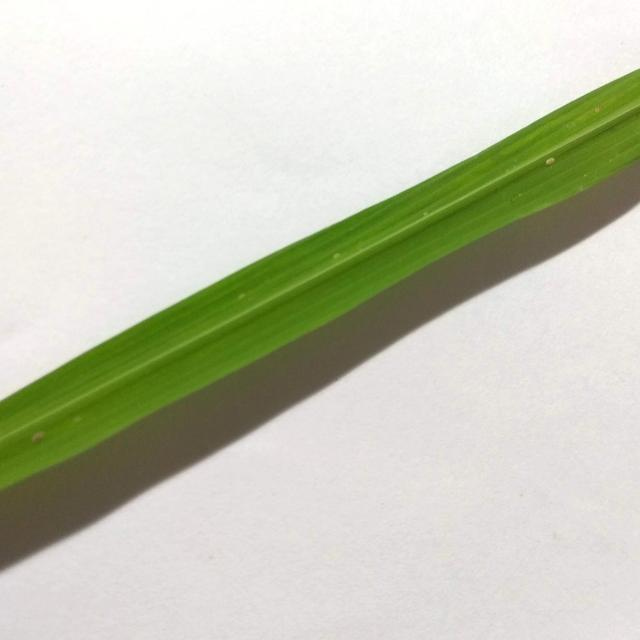Rice_Healthy: (0, 70, 640, 489)
